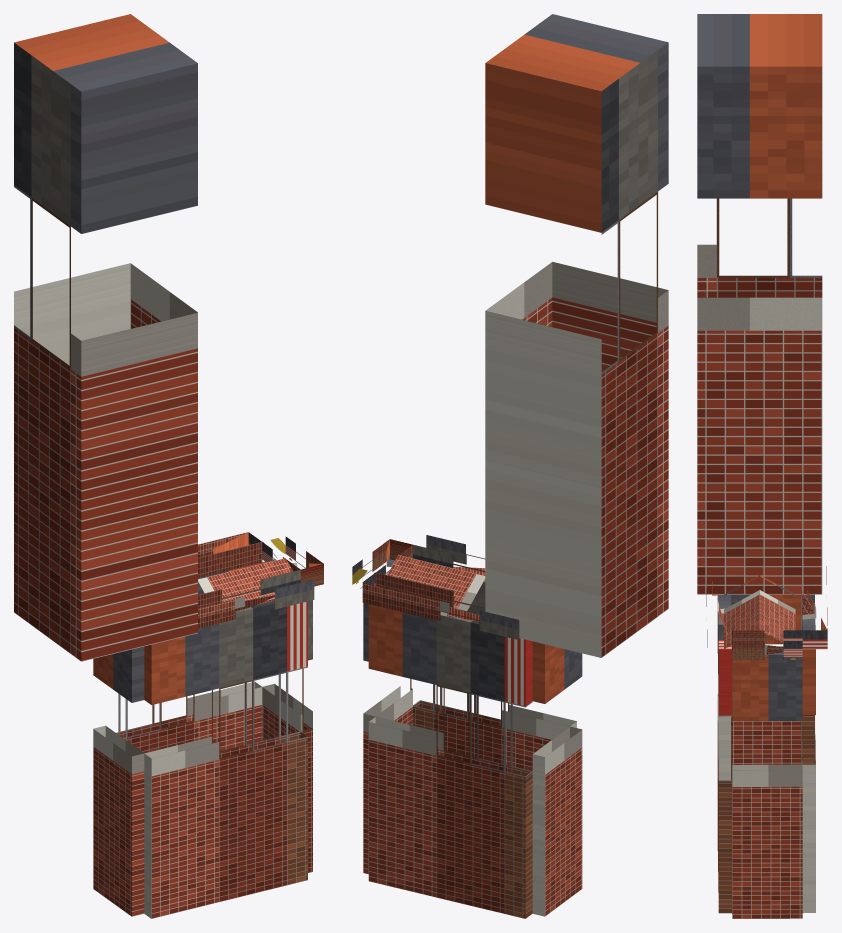
The picture shows the model from 3 angles, left to right: view 1: azimuth 30°, elevation 25°; view 2: azimuth 150°, elevation 25°; view 3: azimuth 270°, elevation 25°; orthographic projection. The views are drawn at different scales.
Visible parts, largest first — view 1: 1106966928__chimney_0_xb, 1106966928__wall_0_xb, 1106966928__wall_1_xb, 1106966928__wall_2_xb, 1106966928__wall_3_xb, 1106966928__cornice_0, 1106966928__cornice_2, 1106966928_roof_-1_xb, 1106966928__cornice_3; view 2: 1106966928__chimney_0_xb, 1106966928__wall_2_xb, 1106966928__wall_1_xb, 1106966928__wall_0_xb, 1106966928__cornice_2, 1106966928__wall_3_xb, 1106966928_roof_1_xb, 1106966928__cornice_0, 1106966928__cornice_3; view 3: 1106966928__chimney_0_xb, 1106966928__wall_3_xb, 1106966928__wall_0_xb, 1106966928__wall_2_xb, 1106966928__wall_1_xb, 1106966928__cornice_3, 1106966928_roof_1_xb, 1106966928_roof_-1_xb, 1106966928__cornice_2.
Part boxes in pixels (bbox=[...]): 1106966928__chimney_0_xb: bbox=[14, 14, 197, 661]; 1106966928__wall_0_xb: bbox=[144, 601, 307, 918]; 1106966928__wall_1_xb: bbox=[93, 646, 144, 916]; 1106966928__wall_2_xb: bbox=[116, 562, 262, 753]; 1106966928__wall_3_xb: bbox=[262, 559, 312, 872]; 1106966928__cornice_0: bbox=[198, 569, 314, 628]; 1106966928__cornice_2: bbox=[198, 532, 262, 577]; 1106966928_roof_-1_xb: bbox=[198, 558, 292, 604]; 1106966928__cornice_3: bbox=[262, 536, 323, 586]; 1106966928__chimney_0_xb: bbox=[485, 14, 668, 657]; 1106966928__wall_2_xb: bbox=[368, 604, 532, 918]; 1106966928__wall_1_xb: bbox=[532, 641, 582, 916]; 1106966928__wall_0_xb: bbox=[413, 579, 576, 770]; 1106966928__cornice_2: bbox=[362, 572, 519, 639]; 1106966928__wall_3_xb: bbox=[363, 571, 412, 874]; 1106966928_roof_1_xb: bbox=[387, 555, 485, 611]; 1106966928__cornice_0: bbox=[413, 535, 485, 575]; 1106966928__cornice_3: bbox=[352, 539, 412, 588]; 1106966928__chimney_0_xb: bbox=[697, 14, 822, 594]; 1106966928__wall_3_xb: bbox=[732, 651, 802, 918]; 1106966928__wall_0_xb: bbox=[717, 594, 731, 913]; 1106966928__wall_2_xb: bbox=[801, 594, 815, 913]; 1106966928__wall_1_xb: bbox=[731, 594, 801, 764]; 1106966928__cornice_3: bbox=[732, 630, 802, 659]; 1106966928_roof_1_xb: bbox=[760, 575, 795, 642]; 1106966928_roof_-1_xb: bbox=[724, 575, 759, 649]; 1106966928__cornice_2: bbox=[801, 566, 827, 649].
Bounding box in the file's own units: 0.336 × 1.05 × 0.1563.
1 material, 1 textured.
